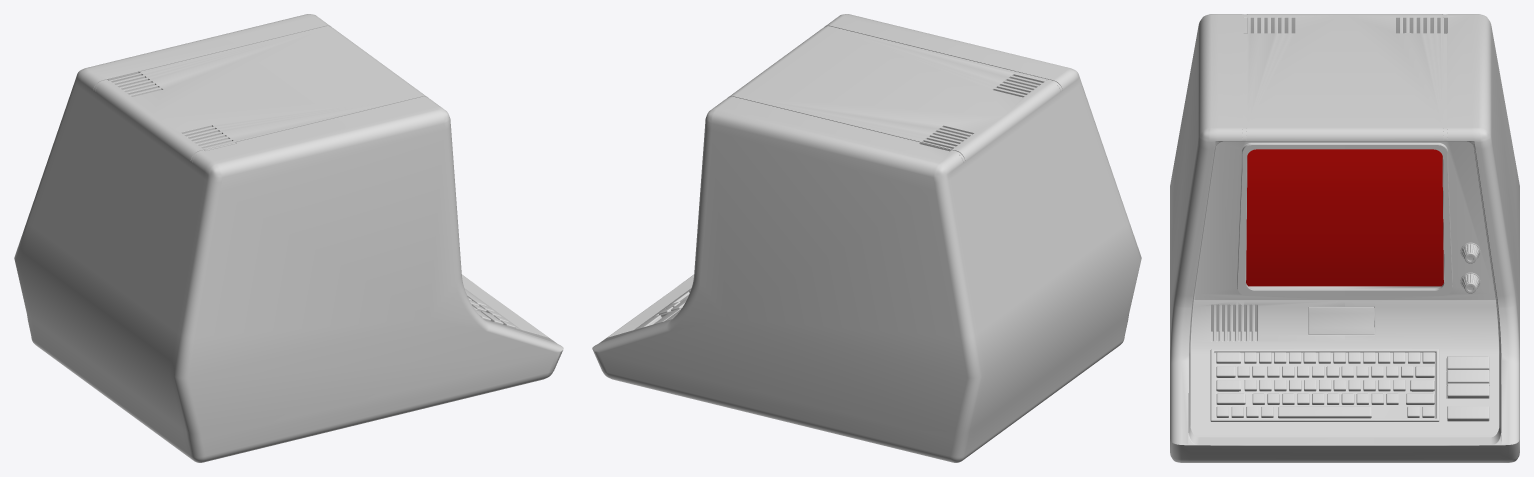
Rendered from retro-terminal.glb.
3 views of the same model, side by side, from view 1: azimuth 30°, elevation 25°; view 2: azimuth 150°, elevation 25°; view 3: azimuth 270°, elevation 25° (orthographic). The views are drawn at different scales.
Visible parts, largest first — view 1: Cube.005; view 2: Cube.005; view 3: Cube.005.
Boxes of the visible parts, <box> form: Cube.005: <box>14,14,563,462</box>; Cube.005: <box>592,14,1141,462</box>; Cube.005: <box>1170,14,1519,462</box>.
Bounding box in the file's own units: 322 × 222 × 242.
